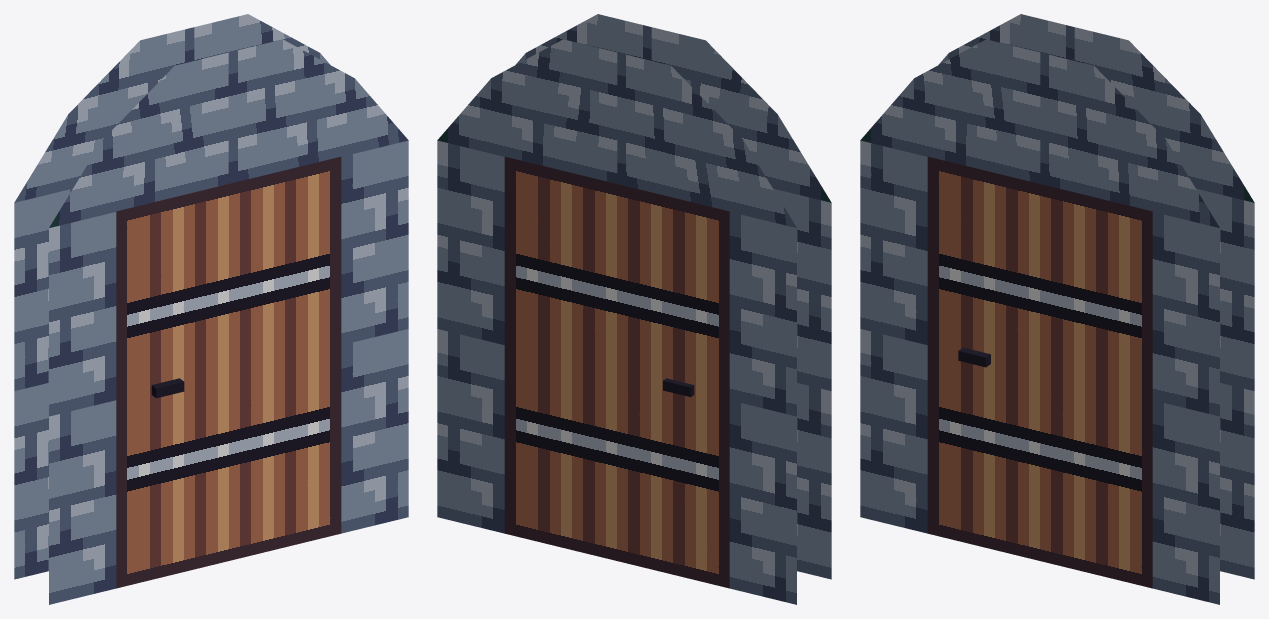
File: door.glb
The picture shows the model from 3 angles, left to right: view 1: azimuth 30°, elevation 25°; view 2: azimuth 150°, elevation 25°; view 3: azimuth 330°, elevation 25°; orthographic projection.
Parts seen in each view (by area): view 1: Door-Enclosure-col, Door; view 2: Door-Enclosure-col, Door; view 3: Door-Enclosure-col, Door.
Part boxes in pixels (bbox=[...]): Door-Enclosure-col: bbox=[14, 14, 408, 604]; Door: bbox=[116, 156, 341, 588]; Door-Enclosure-col: bbox=[437, 14, 831, 604]; Door: bbox=[504, 156, 729, 588]; Door-Enclosure-col: bbox=[860, 14, 1254, 604]; Door: bbox=[927, 156, 1152, 588].
Size of the model in its own units: 2.02 by 2.73 by 0.4161.
1 material, 1 textured.
